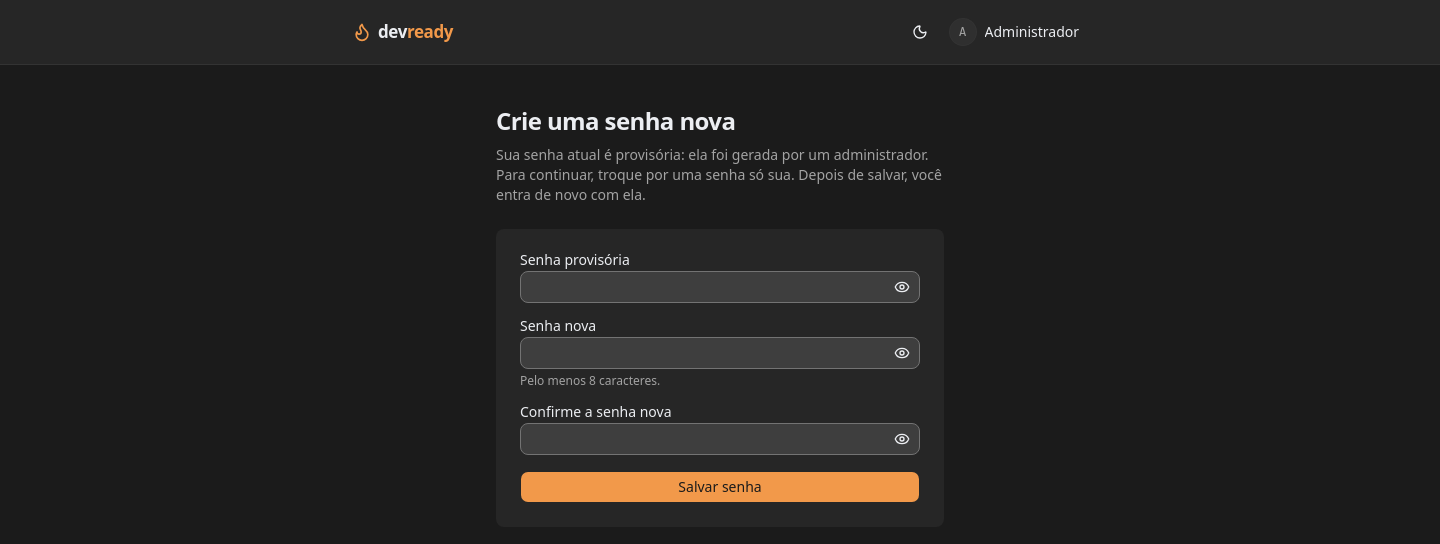
Test: ChangePasswordPage › explica a senha provisória, na moldura focada com o menu só com Sair
This screenshot has width=1440, height=544.
Expected: the heading "Crie uma senha nova" is shown, [496, 104, 735, 137]
Expected: the text "senha atual é provisória" is shown, [496, 145, 942, 204]
Click the button with aria-label "Conta de Administrador" at (1014, 32), box [940, 16, 1088, 48]
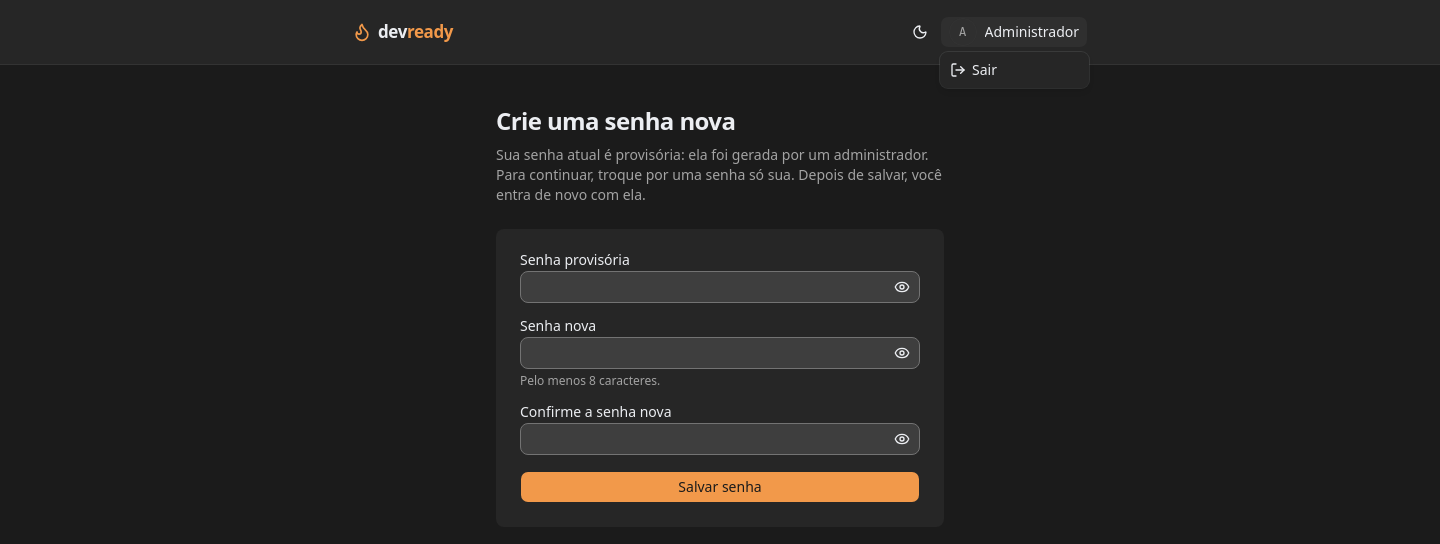
Expected: the number of menu items is 1, [950, 60, 997, 79]
